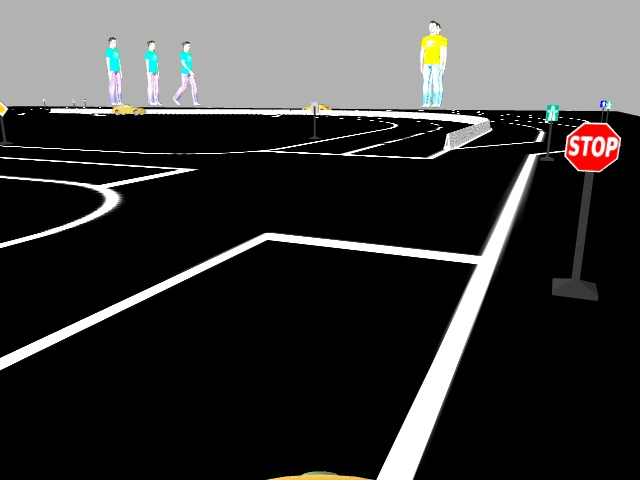Stop: (561, 119, 623, 174)
